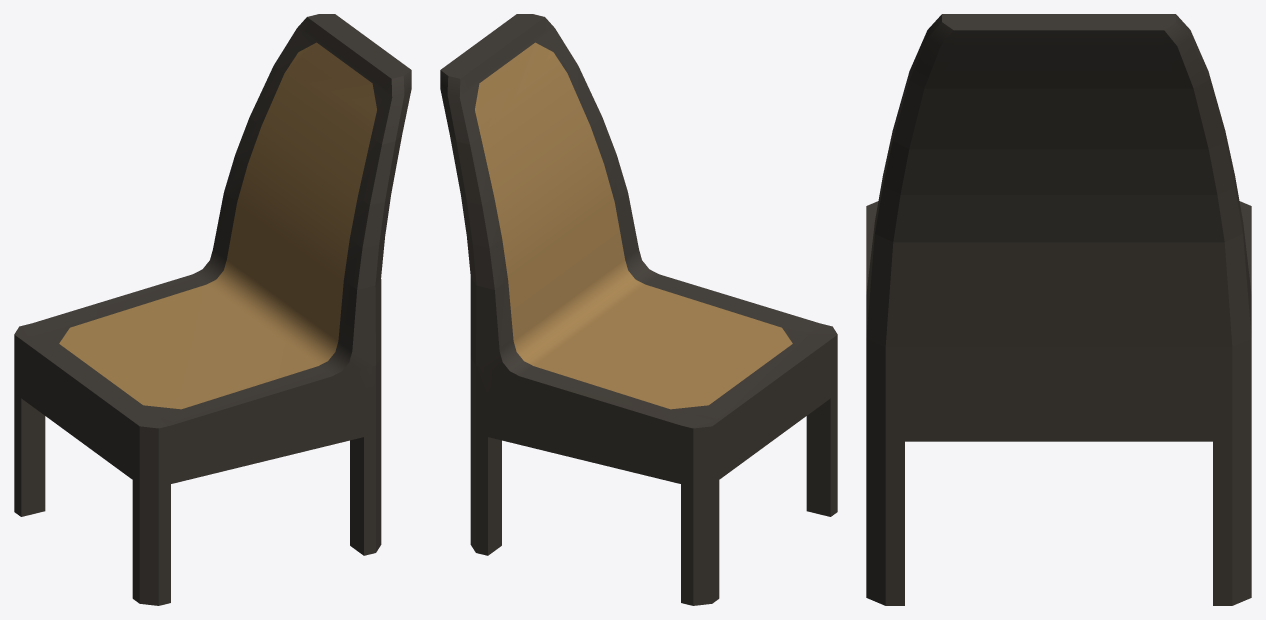
File: PatioChairWTexture.fbx
3 renders of one model, left to right at view 1: azimuth 30°, elevation 25°; view 2: azimuth 150°, elevation 25°; view 3: azimuth 270°, elevation 25°, orthographic. The views are drawn at different scales.
Parts seen in each view (by area): view 1: pCube24; view 2: pCube24; view 3: pCube24.
Part boxes in pixels (box(x1,y1,x2,y2)): pCube24: box(14, 14, 411, 605); pCube24: box(440, 14, 837, 605); pCube24: box(866, 14, 1251, 605).
Bounding box in the file's own units: 0.1111 × 0.1588 × 0.0905.
